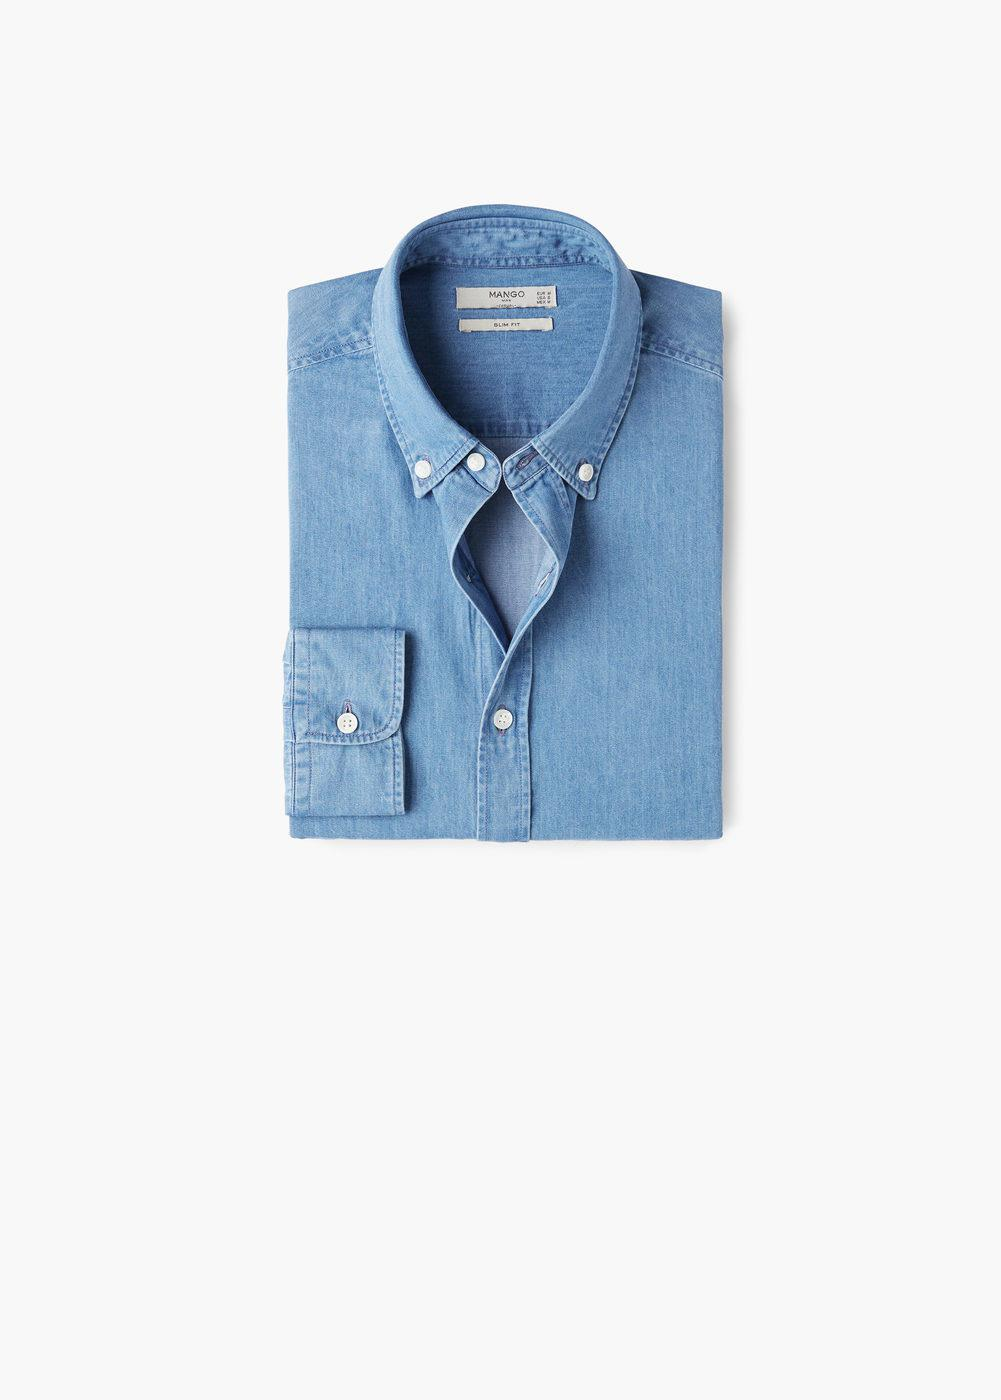teeshirt: (255, 193, 742, 863)
